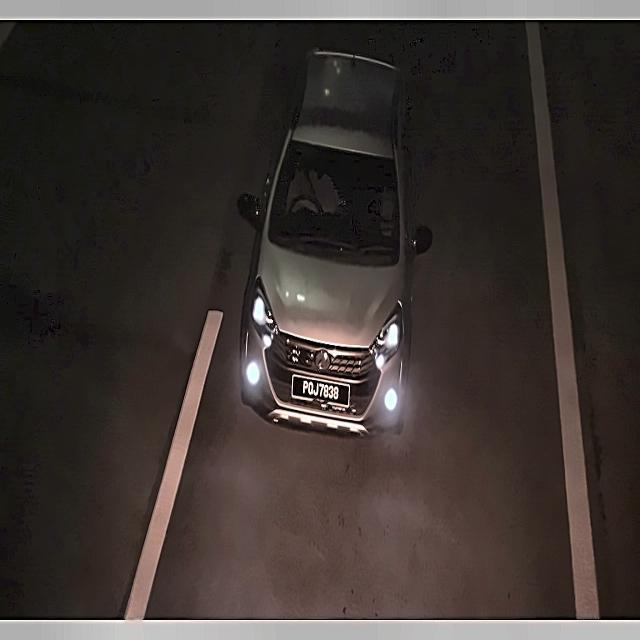car: (288, 368, 356, 412)
